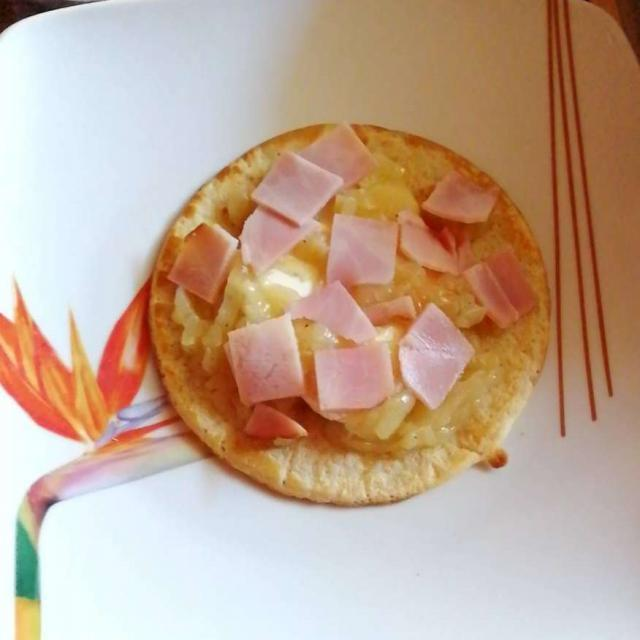cheese: (188, 163, 476, 455)
crepe: (152, 123, 545, 500)
ham: (182, 117, 524, 456)
